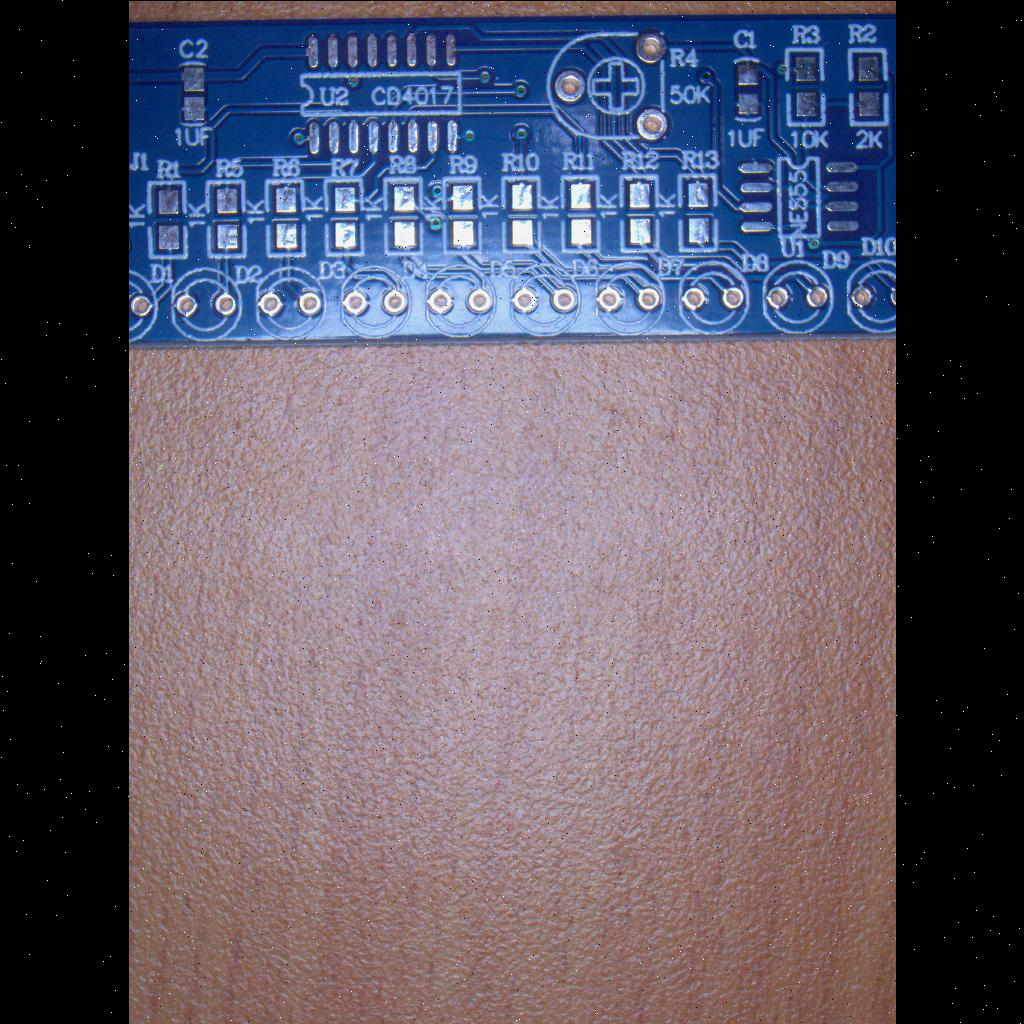NG: (289, 28, 469, 162), (733, 149, 863, 239), (203, 174, 249, 260), (263, 174, 309, 258), (320, 174, 366, 258), (616, 171, 662, 255), (380, 172, 424, 258), (440, 170, 484, 256), (144, 177, 188, 261), (676, 168, 720, 252), (846, 44, 890, 128), (500, 172, 544, 254), (784, 44, 826, 128), (560, 172, 602, 254), (174, 56, 212, 128), (730, 53, 766, 125)
